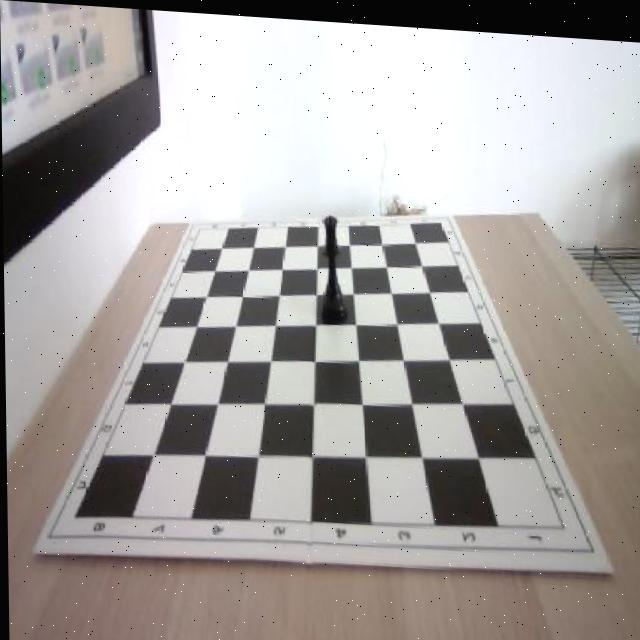black-pawn: (317, 210, 348, 318)
